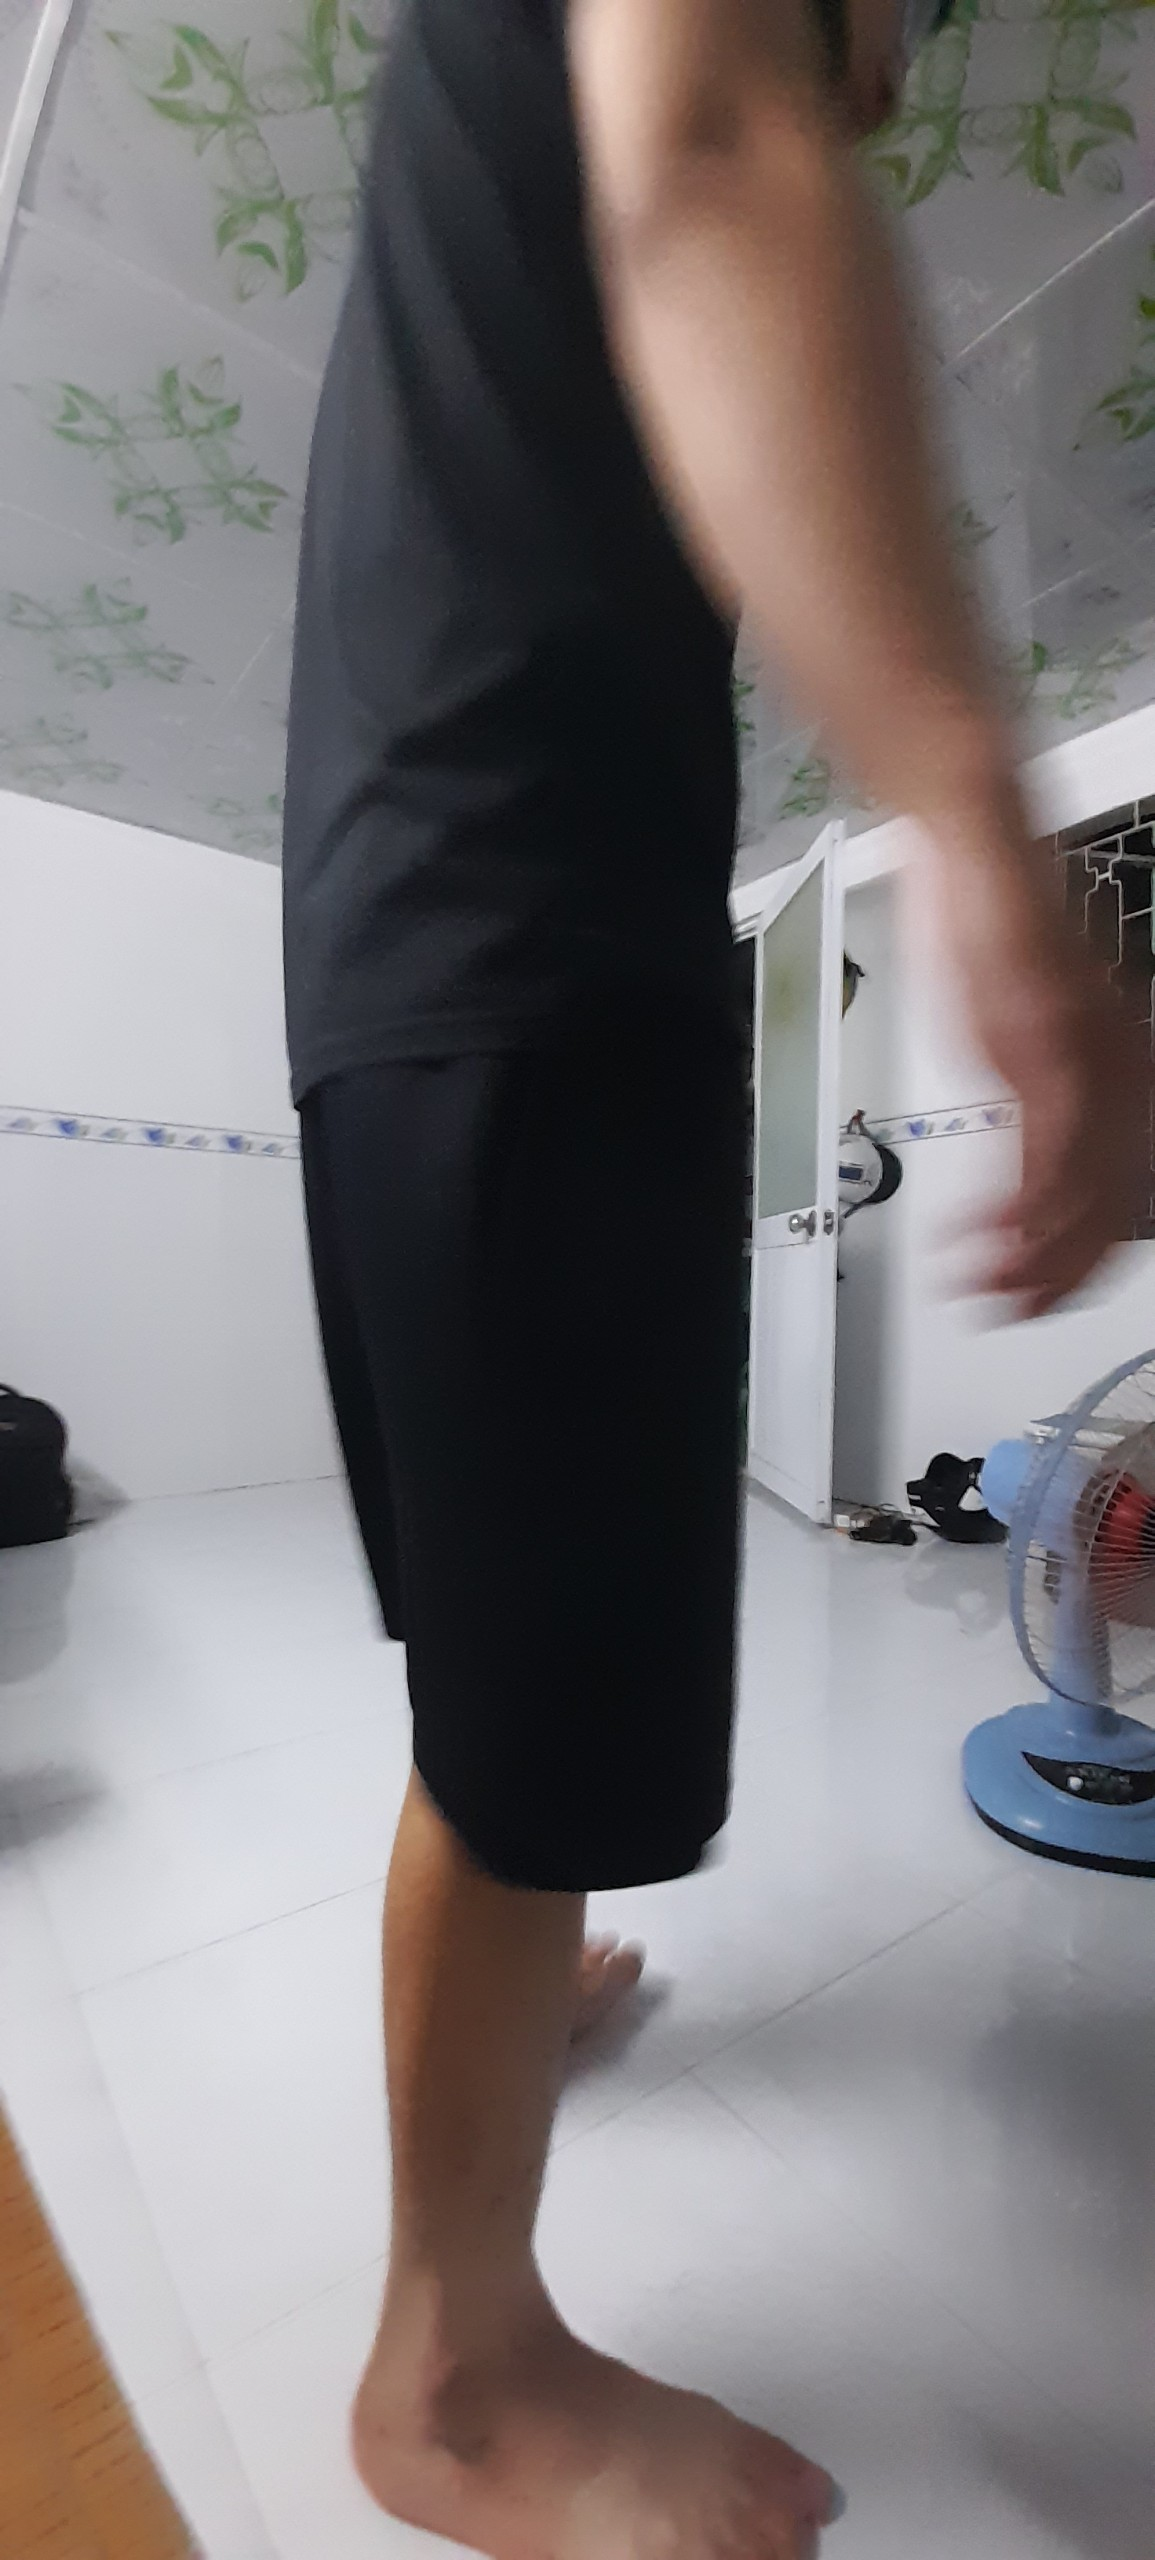person: (285, 3, 939, 2552)
